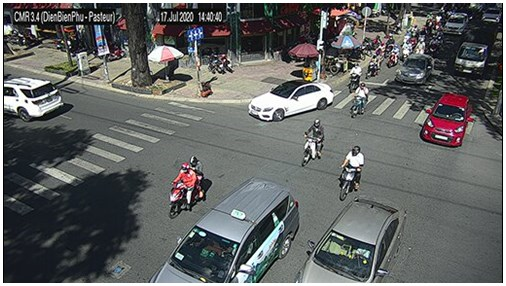xe_hoi: (149, 176, 300, 284), (297, 195, 407, 283), (248, 79, 334, 121), (421, 92, 472, 146), (3, 77, 64, 121), (395, 52, 433, 84), (444, 12, 469, 34), (481, 7, 501, 23)
xe_may: (167, 156, 205, 218), (339, 145, 364, 200), (301, 119, 324, 166), (351, 83, 369, 119), (349, 62, 362, 89), (367, 51, 380, 76), (388, 44, 399, 70), (401, 40, 412, 62), (384, 33, 393, 57), (428, 35, 438, 54), (415, 38, 425, 56), (403, 29, 411, 46)
xe_tai: (454, 31, 495, 75)
